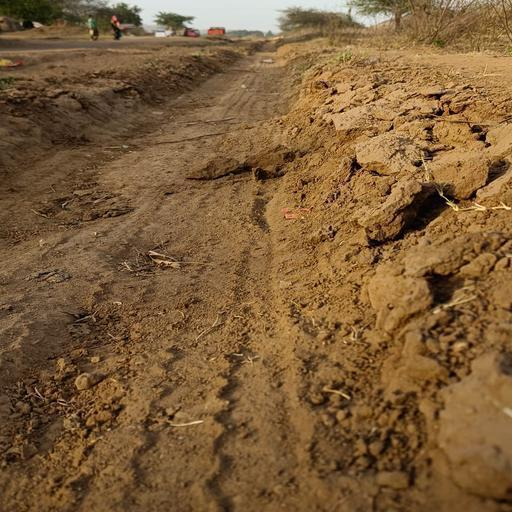vehicle_track: (0, 51, 309, 512)
